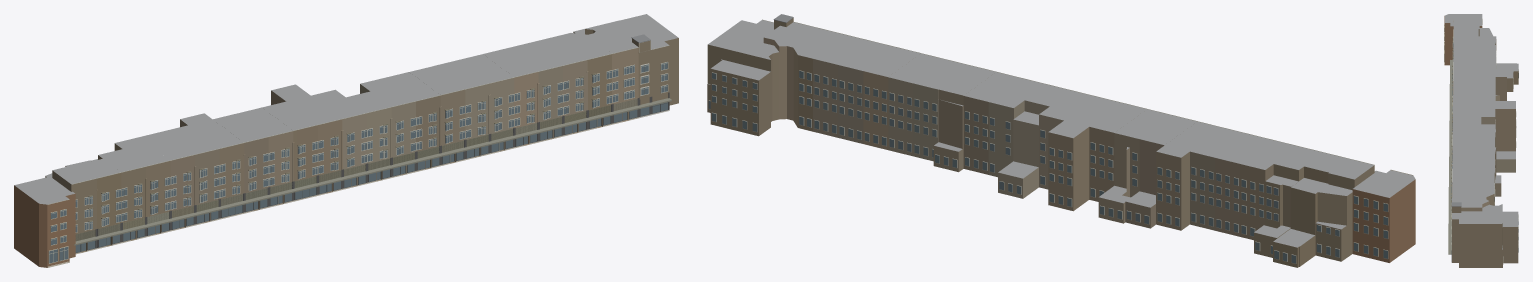
Rendered from chunk-face-evertsen-94-142.glb.
The picture shows the model from 3 angles, left to right: view 1: azimuth 30°, elevation 25°; view 2: azimuth 150°, elevation 25°; view 3: azimuth 270°, elevation 25°; orthographic projection. The views are drawn at different scales.
Parts seen in each view (by area): view 1: face-evertsen-94-142; view 2: face-evertsen-94-142; view 3: face-evertsen-94-142.
Boxes of the visible parts, x1=… form: face-evertsen-94-142: x1=14, y1=14, x2=678, y2=267; face-evertsen-94-142: x1=707, y1=14, x2=1415, y2=267; face-evertsen-94-142: x1=1444, y1=14, x2=1518, y2=267.
Bounding box in the file's own units: 159 × 17.7 × 23.68.
